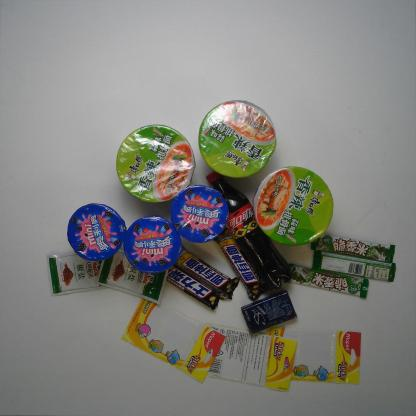Chocolate: (212, 225, 268, 305), (168, 243, 242, 301), (282, 261, 372, 301), (160, 260, 227, 312), (309, 231, 397, 265), (311, 249, 398, 283)
Dessert: (64, 200, 128, 262), (122, 214, 185, 275), (170, 183, 230, 244)
Drink: (203, 168, 295, 296)
Gum: (238, 288, 300, 336)
Instant Noodles: (252, 162, 338, 248), (115, 123, 198, 204), (198, 98, 278, 180)
Seasoner: (93, 240, 173, 308), (41, 242, 115, 302)
Stationery: (117, 294, 228, 385), (199, 320, 299, 394), (263, 324, 364, 387)
